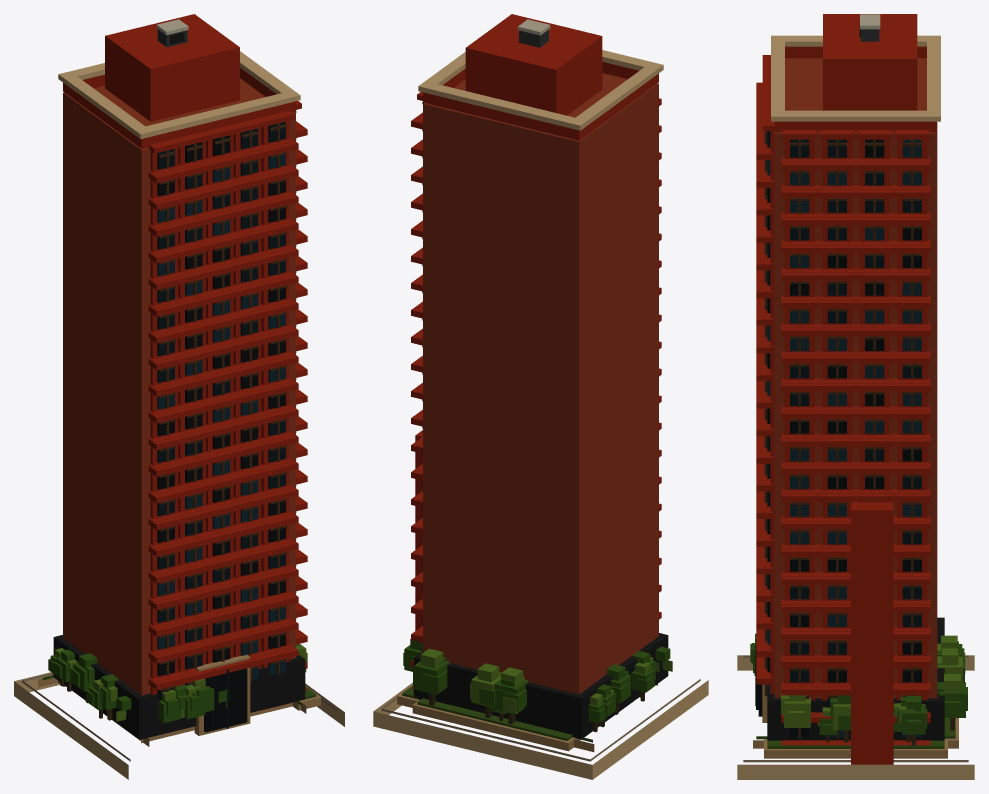
File: SM_StreetFrontage_003.fbx
The picture shows the model from 3 angles, left to right: view 1: azimuth 30°, elevation 25°; view 2: azimuth 150°, elevation 25°; view 3: azimuth 270°, elevation 25°; orthographic projection. The views are drawn at different scales.
Visible parts, largest first — view 1: SM_StreetFrontage_003; view 2: SM_StreetFrontage_003; view 3: SM_StreetFrontage_003.
Part boxes in pixels (x1,y1,x2,y2): SM_StreetFrontage_003: (14,14,344,779); SM_StreetFrontage_003: (373,14,708,779); SM_StreetFrontage_003: (737,14,974,779).
Size of the model in its own units: 14 by 12.85 by 42.13.
